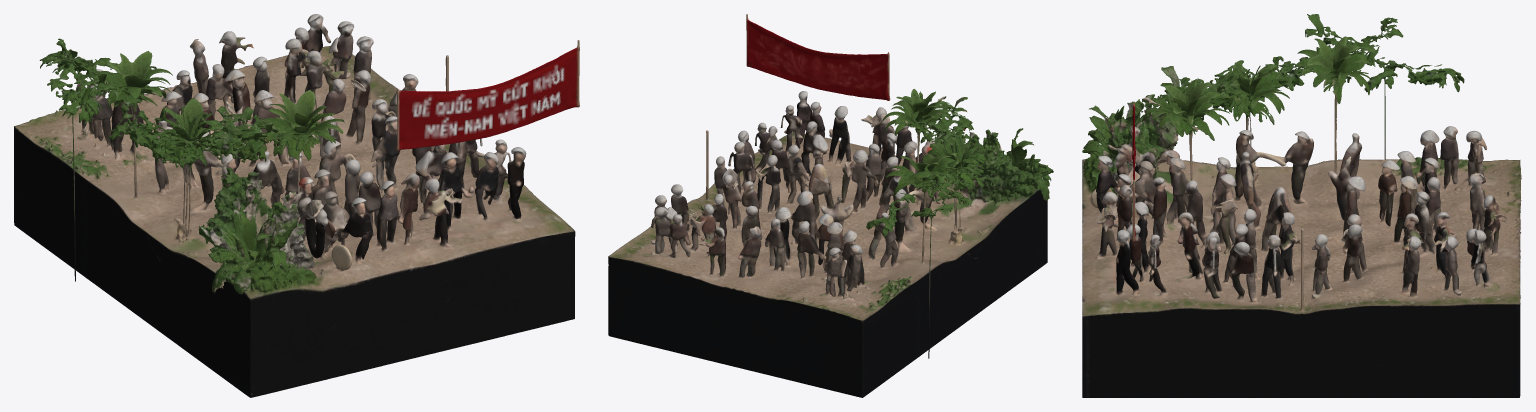
File: doi_quan_toc_dai_ben_tre.glb
The picture shows the model from 3 angles, left to right: view 1: azimuth 30°, elevation 25°; view 2: azimuth 150°, elevation 25°; view 3: azimuth 270°, elevation 25°; orthographic projection. The views are drawn at different scales.
Bounding box in the file's own units: 1.86 × 1.11 × 1.9.
1 material, 1 textured.
